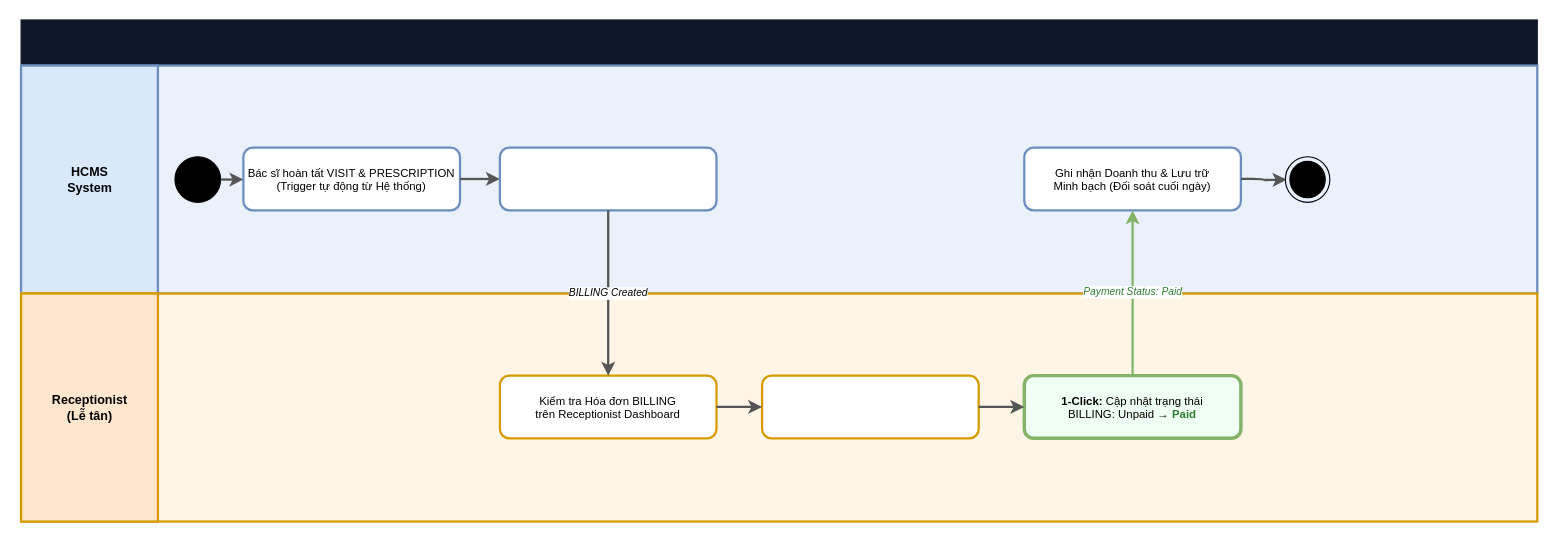
Image size: 1557x543. Some labels were removed from this diagram. The centre of each missing label's shape, as x and y in pixels:
Start: the point at 197,179
Thu phí trực tiếp tại quầy (Tiền mặt / Chuyển khoản): the point at 869,406
Tự động khởi tạo Hóa đơn BILLING (Phí Dịch vụ + Danh mục Thuốc): the point at 607,178
WF-03 | Luồng Thanh toán "Một chạm" — Streamlined 1-Click Checkout Workflow: the point at 778,42
